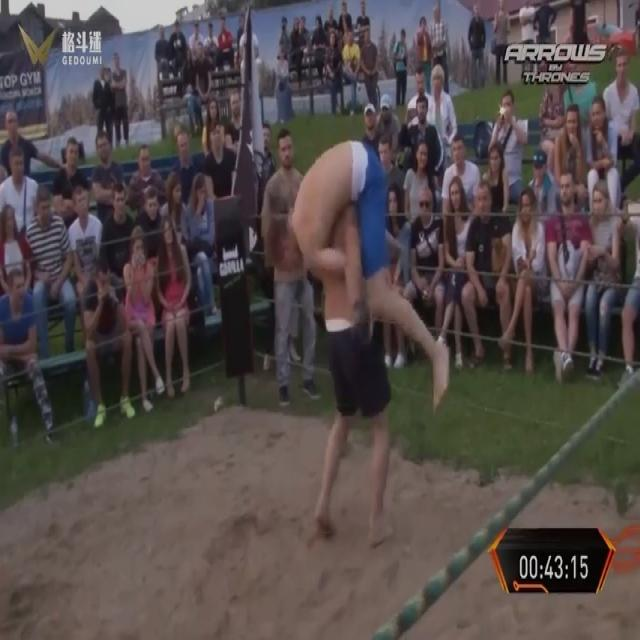fight: (283, 120, 457, 559)
non-fight: (257, 126, 321, 406), (575, 170, 630, 378), (0, 263, 56, 445), (461, 176, 509, 367), (547, 177, 592, 377), (29, 184, 78, 364), (248, 113, 283, 360), (82, 249, 131, 425), (499, 186, 545, 372), (151, 210, 196, 398), (125, 228, 164, 409), (182, 175, 220, 324), (2, 109, 62, 182), (603, 48, 639, 168), (65, 182, 103, 290), (584, 101, 620, 214), (0, 143, 39, 240), (100, 181, 136, 284), (491, 90, 524, 198), (403, 135, 439, 233), (52, 137, 90, 229), (441, 131, 480, 220), (553, 104, 589, 198), (559, 2, 595, 95), (0, 204, 33, 298), (90, 137, 125, 225), (427, 66, 457, 168), (126, 144, 166, 217), (203, 121, 238, 202), (135, 184, 166, 264), (524, 147, 557, 221), (170, 130, 200, 211), (354, 23, 380, 113), (539, 79, 565, 164), (529, 2, 555, 83), (481, 142, 509, 215), (325, 24, 348, 112), (253, 122, 276, 210), (377, 131, 401, 215), (110, 52, 129, 151), (430, 4, 451, 91), (163, 174, 188, 244), (341, 28, 361, 114), (93, 66, 115, 144), (391, 28, 412, 108), (490, 0, 509, 86), (515, 3, 536, 80), (374, 93, 400, 155), (275, 50, 295, 124), (416, 15, 433, 96), (238, 11, 258, 78), (201, 98, 224, 156), (406, 68, 431, 120), (192, 43, 213, 102), (354, 0, 370, 77), (290, 17, 307, 86), (310, 17, 328, 82), (168, 21, 187, 80), (154, 24, 171, 86), (227, 91, 244, 150), (185, 83, 203, 138), (217, 17, 234, 72), (278, 16, 291, 87), (203, 20, 219, 66), (188, 21, 204, 61), (338, 0, 353, 37), (235, 8, 246, 56), (324, 9, 338, 39)
